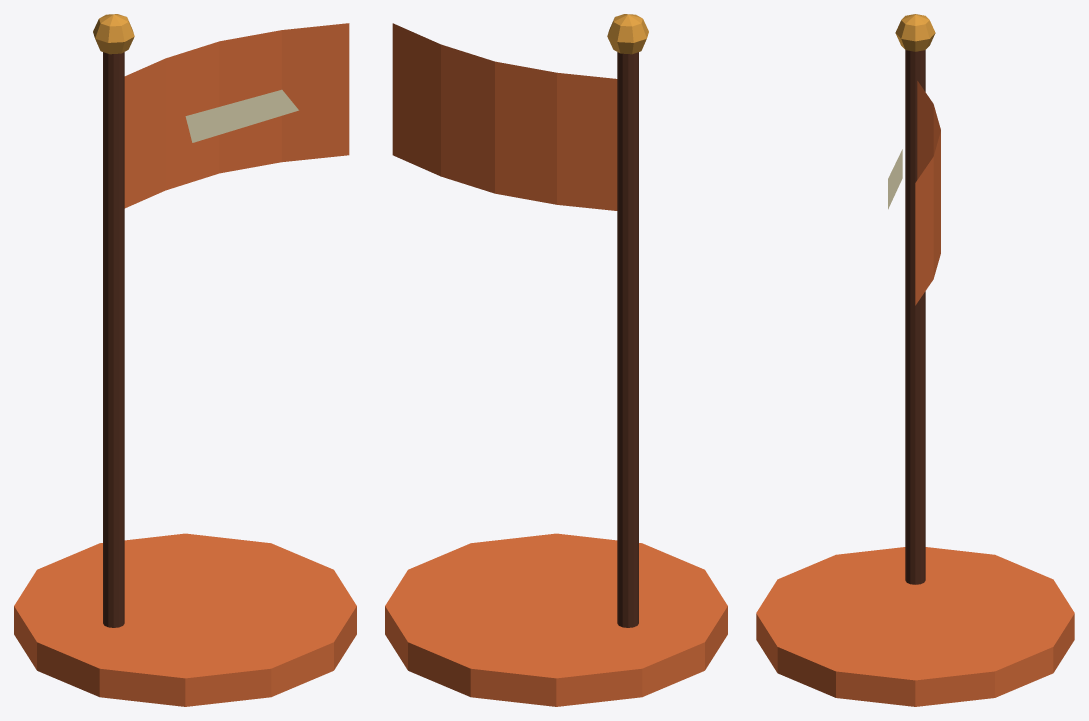
The model's file is flag_start_orange.glb.
3 views of the same model, side by side, from view 1: azimuth 30°, elevation 25°; view 2: azimuth 150°, elevation 25°; view 3: azimuth 270°, elevation 25° (orthographic). The views are drawn at different scales.
Visible parts, largest first — view 1: flag_start_orange_Surface; view 2: flag_start_orange_Surface; view 3: flag_start_orange_Surface.
Part boxes in pixels (box(x1,y1,x2,y2)): flag_start_orange_Surface: box(14, 14, 356, 706); flag_start_orange_Surface: box(385, 14, 727, 706); flag_start_orange_Surface: box(756, 14, 1074, 706).
Size of the model in its own units: 0.915 by 1.79 by 0.87.
1 material, 1 textured.
